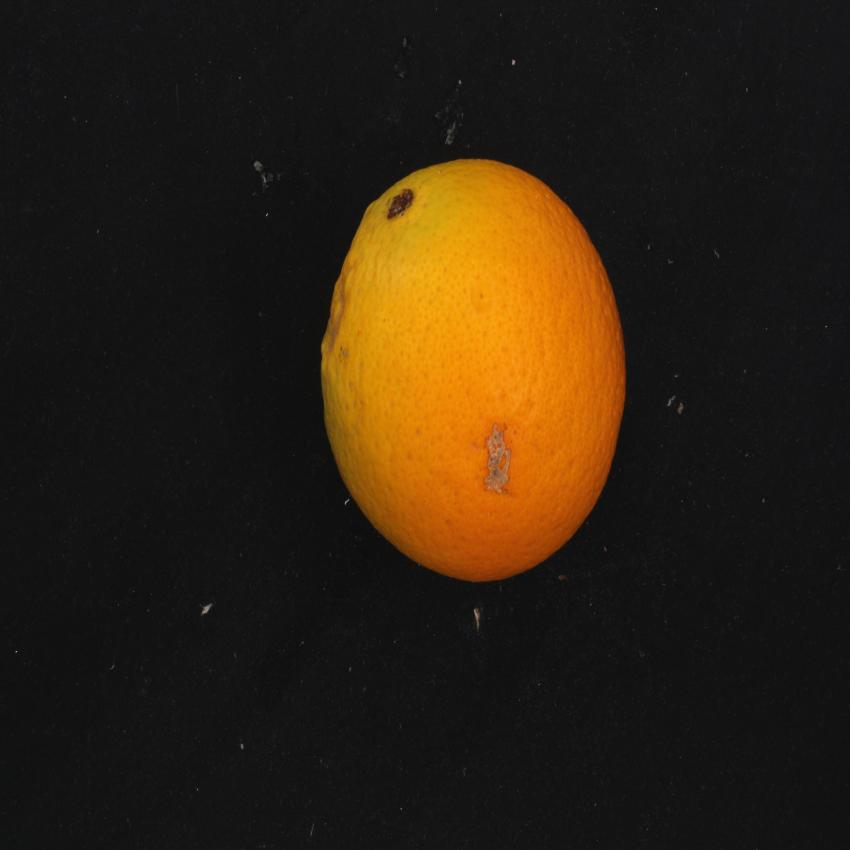Mal estado: (310, 141, 652, 598)
